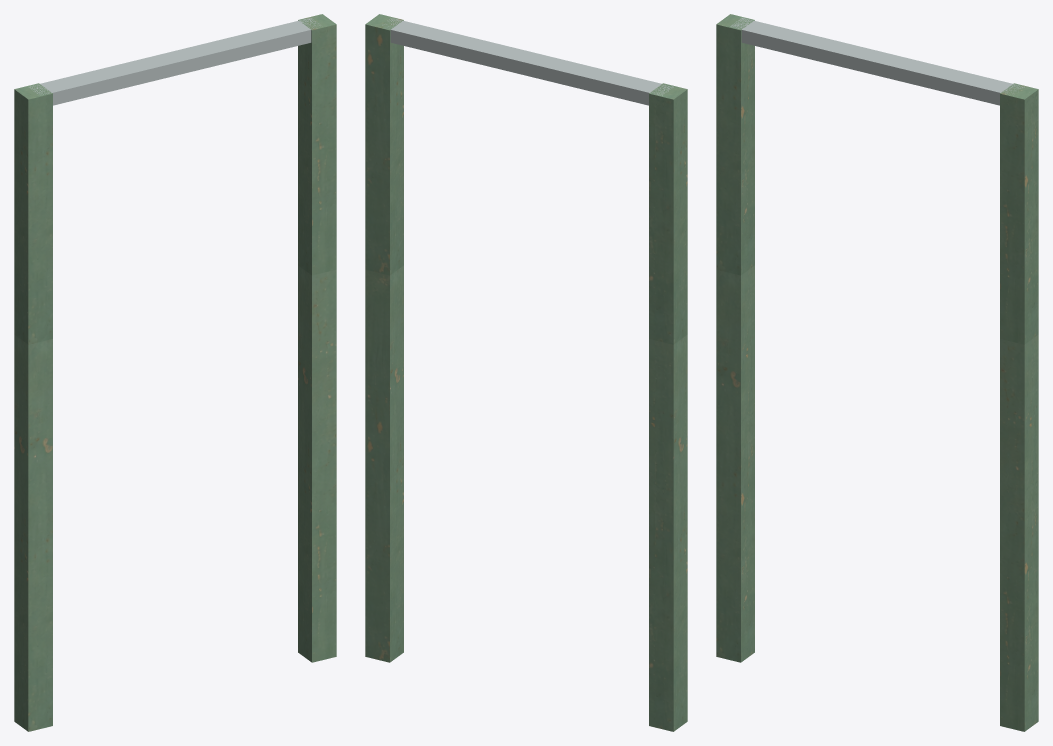
Rendered from bath-stall-frame.gltf.
The picture shows the model from 3 angles, left to right: view 1: azimuth 30°, elevation 25°; view 2: azimuth 150°, elevation 25°; view 3: azimuth 330°, elevation 25°; orthographic projection.
Parts seen in each view (by area): view 1: partition-paint, partition-metal; view 2: partition-paint, partition-metal; view 3: partition-paint, partition-metal.
Part boxes in pixels (x1,y1,x2,y2): partition-paint: (14, 14, 336, 731); partition-metal: (29, 18, 320, 105); partition-paint: (365, 14, 687, 731); partition-metal: (382, 18, 673, 105); partition-paint: (716, 14, 1038, 731); partition-metal: (730, 18, 1024, 105).
Size of the model in its own units: 1 by 1.96 by 0.08.
2 materials, 1 textured.
